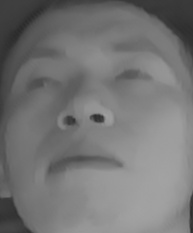eye: (111, 59, 154, 94), (22, 69, 64, 97)
mouth: (41, 141, 126, 182)
